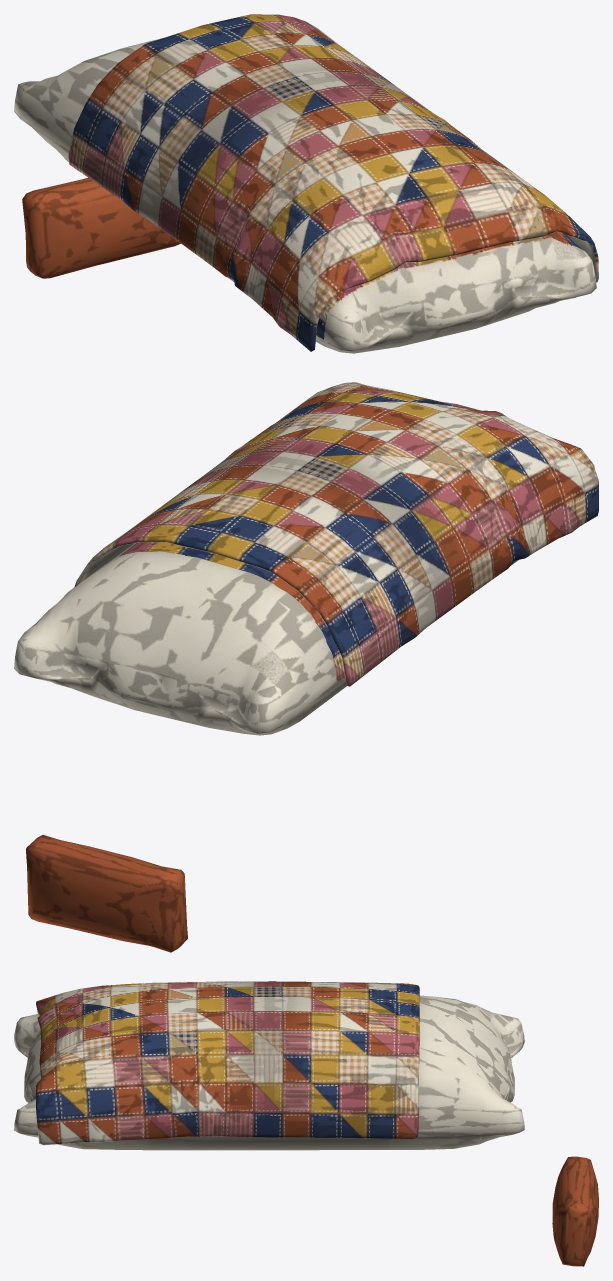
Rendered from futon_patch.glb.
3 renders of one model, top to bottom at view 1: azimuth 30°, elevation 25°; view 2: azimuth 150°, elevation 25°; view 3: azimuth 270°, elevation 25°, orthographic. The views are drawn at different scales.
Visible parts, largest first — view 1: prop_futon_patch_felt; view 2: prop_futon_patch_felt; view 3: prop_futon_patch_felt.
Part boxes in pixels (x1=…): prop_futon_patch_felt: x1=14, y1=14, x2=598, y2=353; prop_futon_patch_felt: x1=14, y1=382, x2=598, y2=952; prop_futon_patch_felt: x1=14, y1=981, x2=598, y2=1266.
Size of the model in its own units: 2 by 2.11 by 4.52.
Materials: 1 (1 with a texture image).
